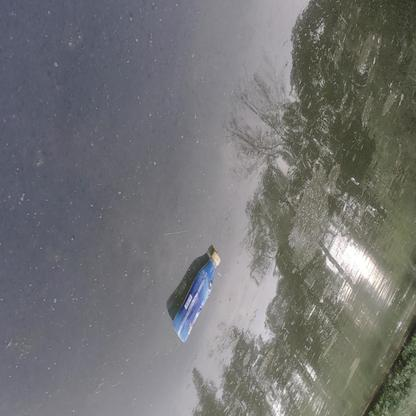plastic bottle: (172, 251, 221, 342)
